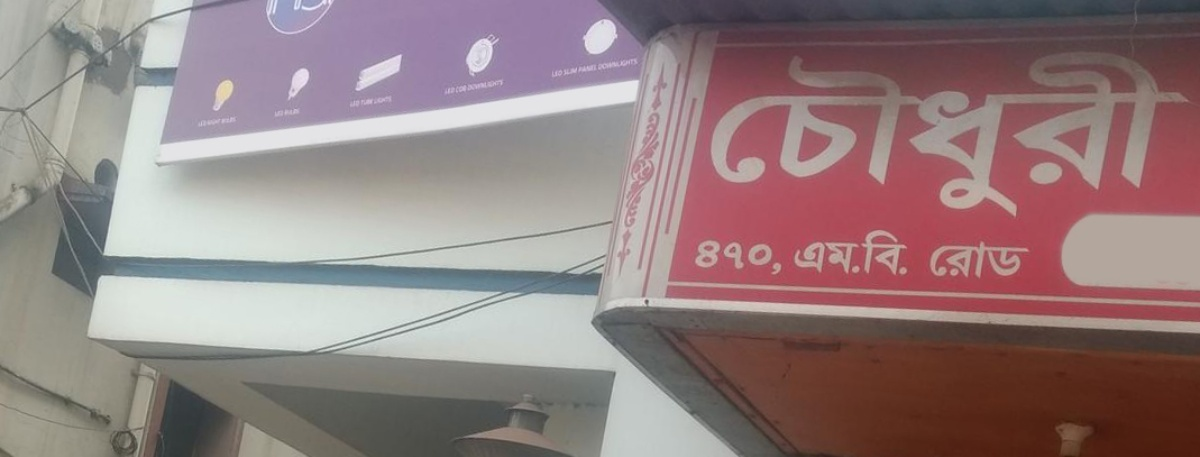text: (657, 40, 672, 298), (673, 40, 688, 298), (689, 40, 704, 298), (721, 43, 736, 227), (737, 43, 752, 227), (753, 43, 768, 227), (769, 43, 784, 227), (785, 43, 800, 227), (801, 43, 816, 227), (817, 43, 832, 227), (833, 43, 848, 227), (849, 43, 864, 227), (865, 43, 880, 227), (881, 43, 896, 227), (897, 43, 912, 227), (913, 43, 928, 227), (929, 43, 944, 227), (945, 43, 960, 227), (961, 43, 976, 227), (977, 43, 992, 227), (993, 43, 1008, 227), (1009, 43, 1024, 227), (1025, 43, 1040, 227), (1041, 43, 1056, 227), (1057, 43, 1072, 227), (1073, 43, 1088, 227), (1089, 43, 1104, 227), (1105, 43, 1120, 227), (1121, 43, 1136, 227), (1137, 43, 1152, 227), (1153, 43, 1168, 227), (1169, 43, 1184, 227), (1185, 43, 1199, 227), (652, 40, 656, 298), (865, 226, 880, 281), (881, 226, 896, 281), (705, 40, 708, 298), (897, 226, 911, 281), (689, 231, 704, 280), (705, 231, 720, 280), (721, 231, 736, 280), (737, 231, 752, 280), (753, 231, 768, 280), (769, 231, 784, 280), (801, 236, 816, 282), (817, 236, 832, 282), (833, 236, 848, 282), (945, 239, 960, 285), (961, 239, 976, 285), (977, 239, 992, 285), (993, 239, 1008, 285), (1009, 239, 1024, 285), (849, 236, 863, 282), (930, 239, 944, 285), (561, 49, 576, 87), (577, 49, 592, 87), (593, 49, 608, 87), (609, 49, 624, 87), (625, 49, 640, 87), (547, 49, 560, 87), (353, 88, 368, 116), (369, 88, 384, 116), (1025, 239, 1034, 285), (449, 76, 464, 102), (465, 76, 480, 102), (481, 76, 496, 102), (497, 76, 512, 102), (385, 88, 397, 116), (273, 103, 288, 122), (289, 103, 304, 122), (209, 112, 224, 130), (225, 112, 240, 130), (439, 76, 448, 102), (641, 49, 646, 87), (347, 88, 352, 116), (513, 76, 518, 102), (201, 112, 208, 130), (687, 231, 688, 280), (785, 231, 786, 280), (799, 236, 800, 282), (305, 103, 306, 122), (241, 112, 242, 130)
